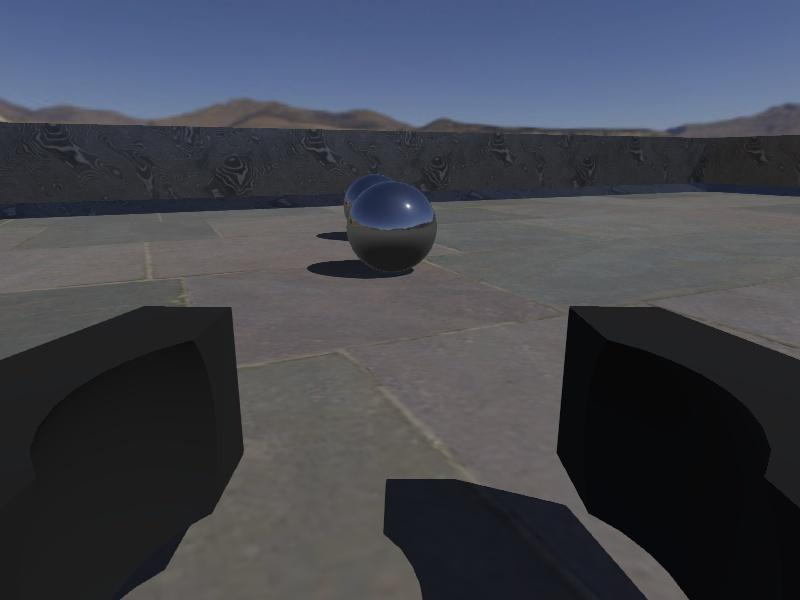steel ball: (346, 180, 438, 274)
